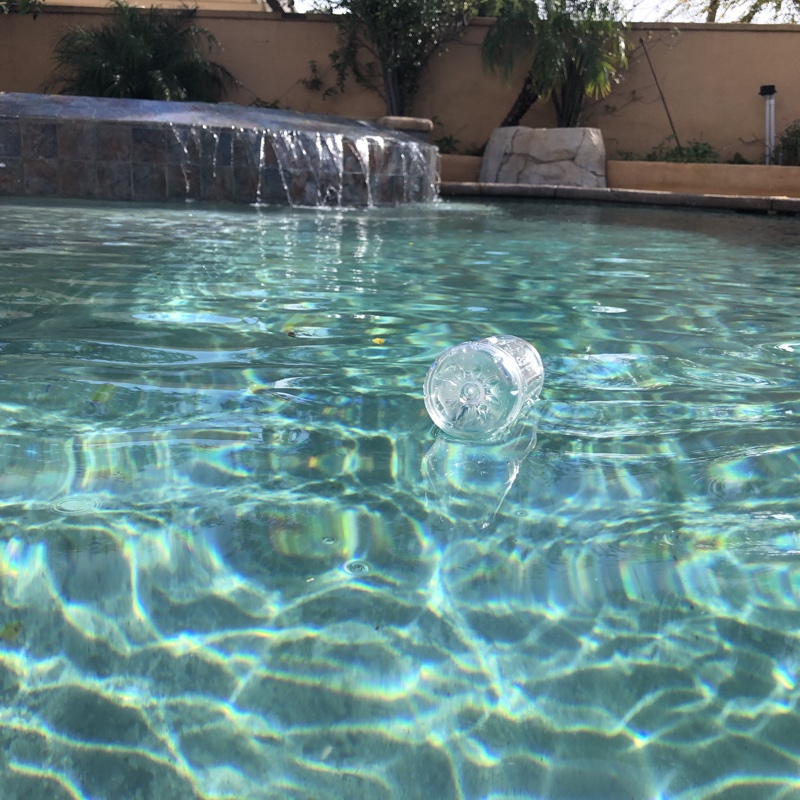Plastic Bottle: (420, 326, 549, 445)
